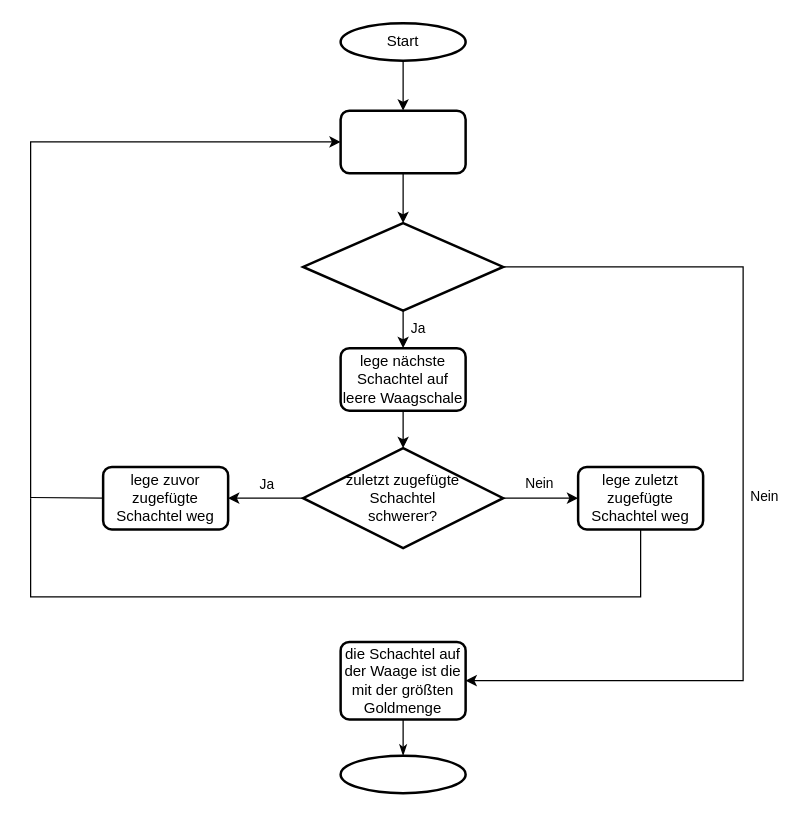
Some shapes in this 800 by 815 pixel diagram are drawn without their labels. Here are the shapes that lost their labels. From the top down, the centre of each, then its label:
At (x=402, y=141): "lege nächste Schachtel auf Waage".
At (x=402, y=266): "noch eine Schachtel vorhanden?".
At (x=402, y=774): "Ende".
